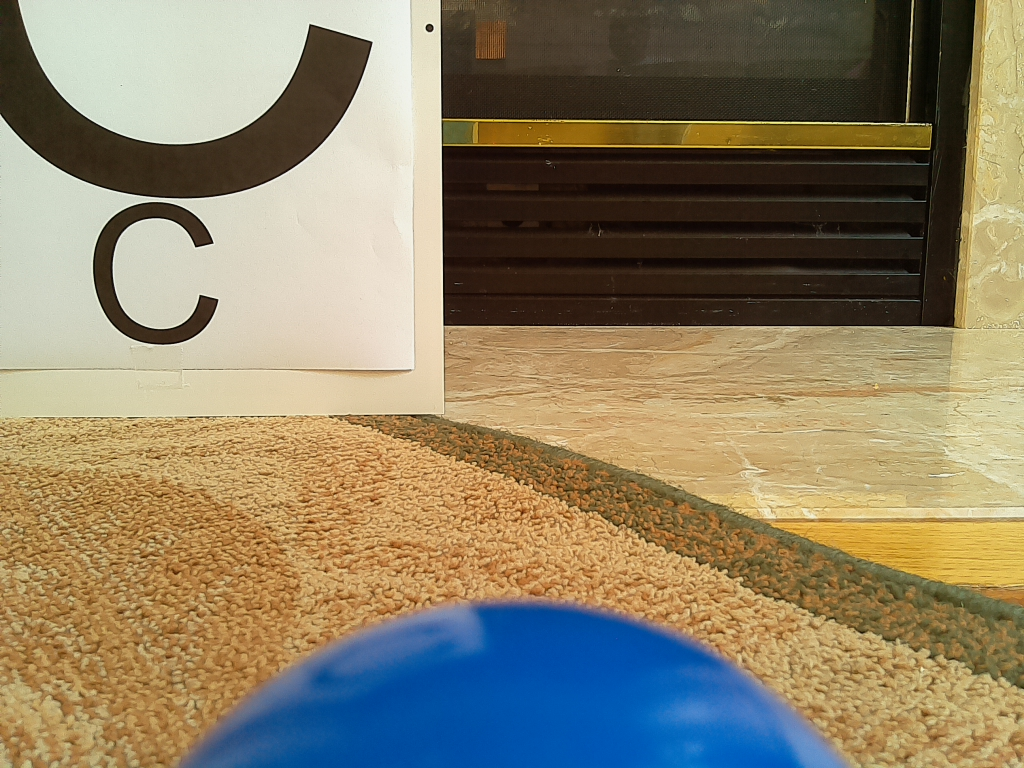letter: (94, 202, 220, 346)
